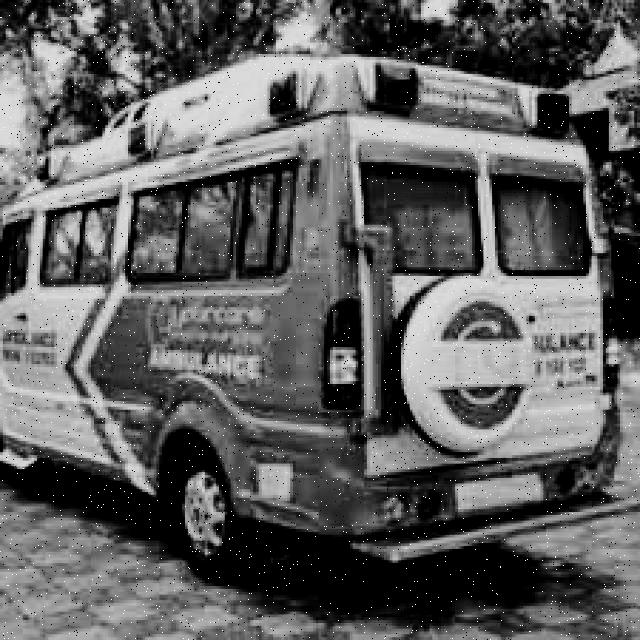LCV: (344, 61, 623, 538)
